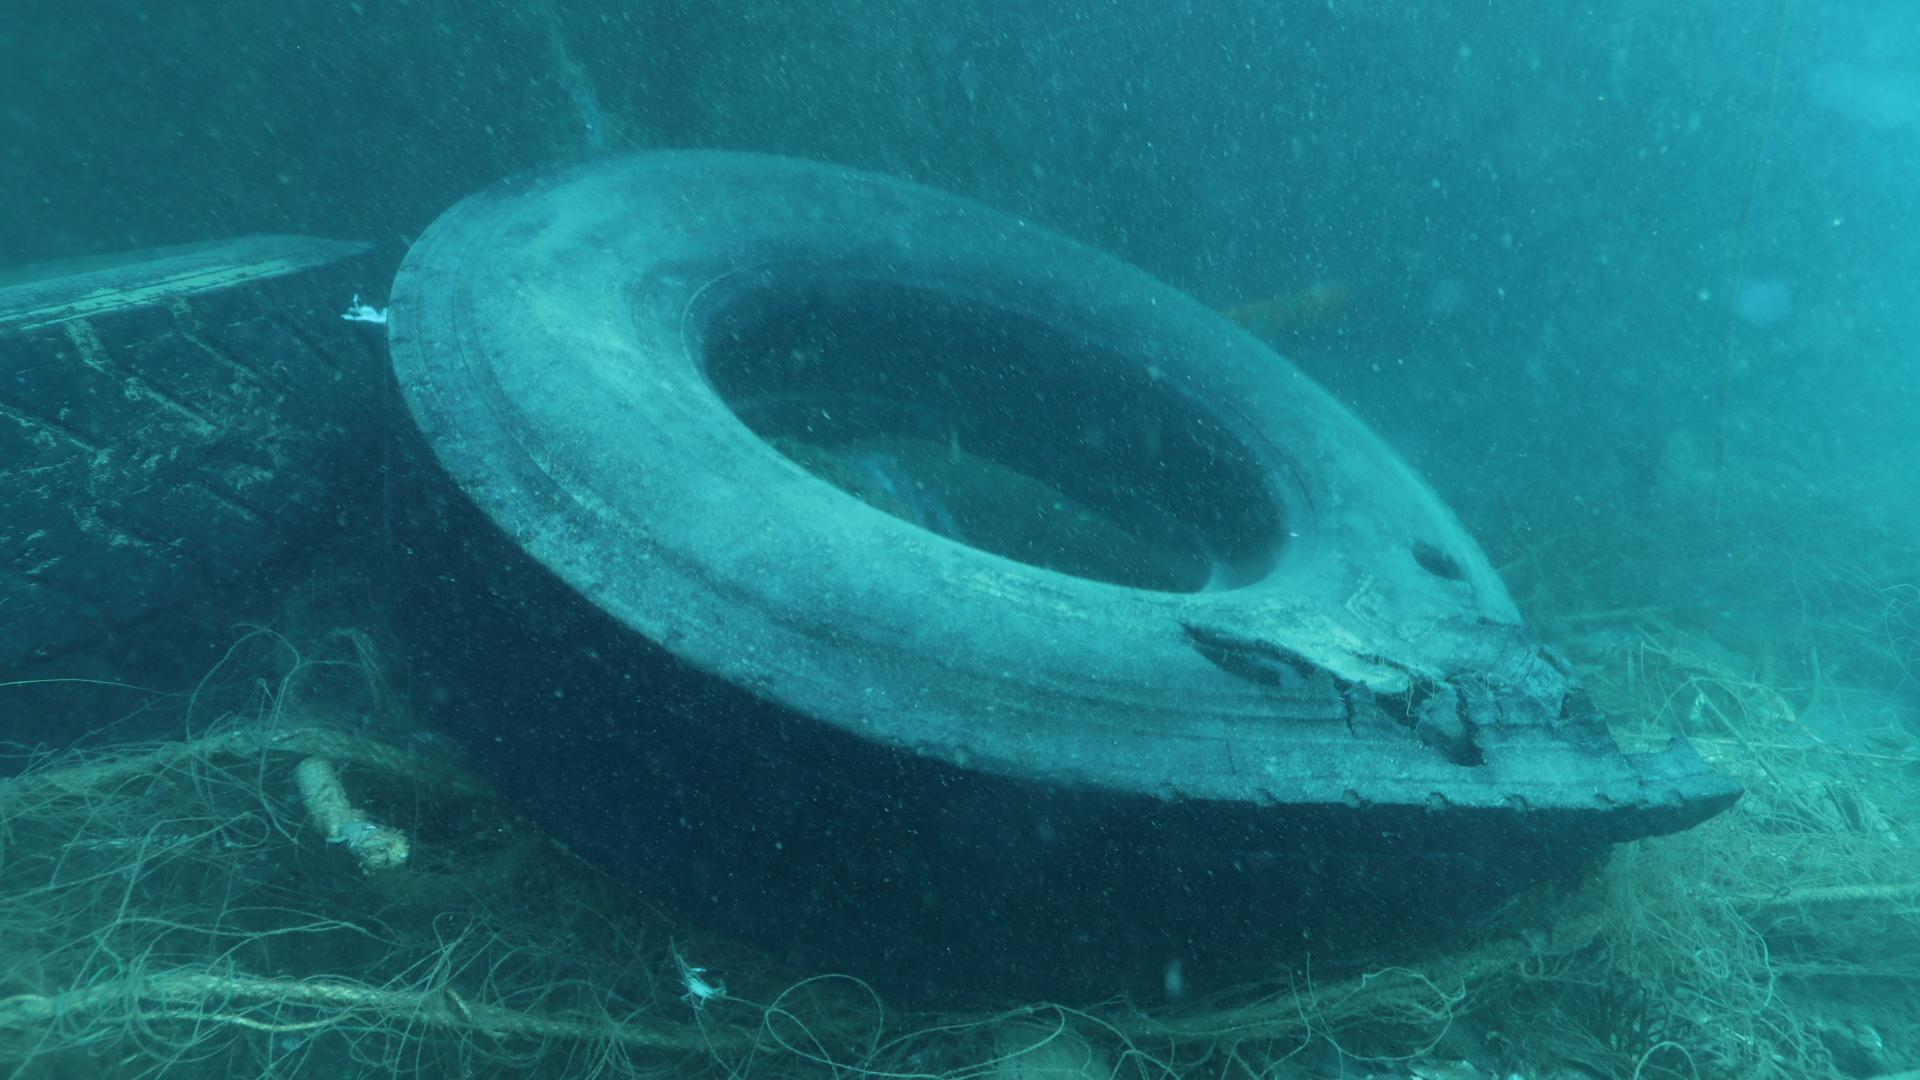tire: (378, 140, 1735, 992)
